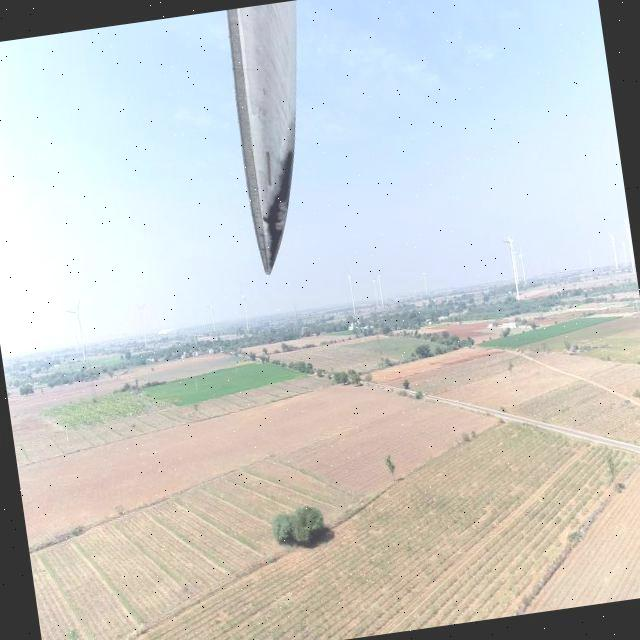Dirt: (219, 1, 298, 270)
Oil LEAKAGE: (264, 143, 298, 270)
